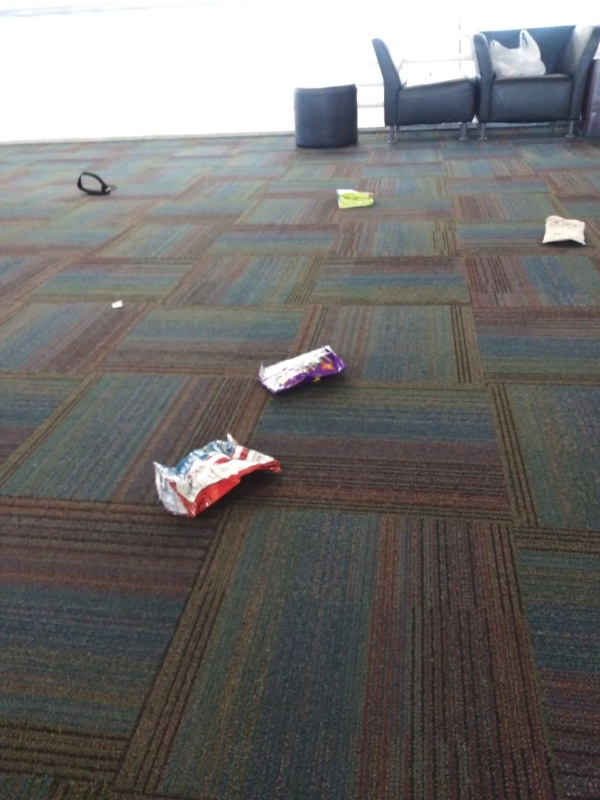bag: (143, 432, 291, 521), (253, 342, 348, 401), (538, 211, 589, 249), (335, 182, 382, 216)
